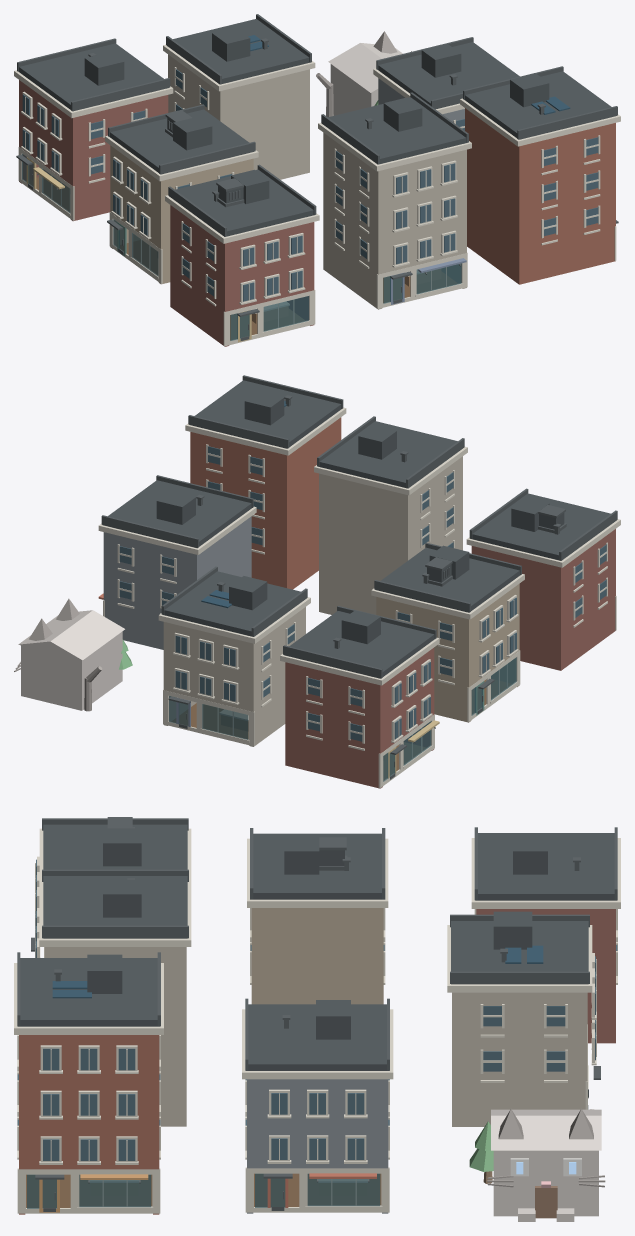
File: downtown-block-m1-m1.glb
3 views of the same model, one above another, from view 1: azimuth 30°, elevation 25°; view 2: azimuth 150°, elevation 25°; view 3: azimuth 270°, elevation 25° (orthographic). The views are drawn at different scales.
Visible parts, largest first — view 1: urban_townhouse_00.003, urban_townhouse_14.003, urban_townhouse_13.003, urban_townhouse_03.002, urban_townhouse_04.002, urban_townhouse_01.002, urban_townhouse_02.002, roofcap.001, body.008; view 2: urban_townhouse_03.002, urban_townhouse_14.003, urban_townhouse_00.003, urban_townhouse_04.002, urban_townhouse_13.003, urban_townhouse_02.002, urban_townhouse_01.002, body.008, roofcap.001; view 3: urban_townhouse_00.003, urban_townhouse_02.002, urban_townhouse_04.002, urban_townhouse_01.002, urban_townhouse_14.003, urban_townhouse_03.002, urban_townhouse_13.003, body.008, roofcap.001, mouthdoor.001.
Boxes of the visible parts, left/top/right/bottom form: urban_townhouse_00.003: left=460, top=66, right=620, bottom=284; urban_townhouse_14.003: left=318, top=92, right=471, bottom=309; urban_townhouse_13.003: left=165, top=164, right=319, bottom=346; urban_townhouse_03.002: left=14, top=38, right=173, bottom=221; urban_townhouse_04.002: left=163, top=14, right=315, bottom=179; urban_townhouse_01.002: left=105, top=104, right=258, bottom=284; urban_townhouse_02.002: left=373, top=37, right=519, bottom=130; roofcap.001: left=328, top=43, right=402, bottom=92; body.008: left=330, top=64, right=378, bottom=115; urban_townhouse_03.002: left=280, top=606, right=439, bottom=788; urban_townhouse_14.003: left=314, top=416, right=467, bottom=614; urban_townhouse_00.003: left=185, top=375, right=346, bottom=589; urban_townhouse_04.002: left=158, top=566, right=310, bottom=746; urban_townhouse_13.003: left=466, top=488, right=620, bottom=670; urban_townhouse_02.002: left=98, top=475, right=256, bottom=649; urban_townhouse_01.002: left=371, top=542, right=524, bottom=722; body.008: left=21, top=631, right=122, bottom=710; roofcap.001: left=18, top=610, right=124, bottom=660; urban_townhouse_00.003: left=14, top=952, right=163, bottom=1214; urban_townhouse_02.002: left=242, top=998, right=393, bottom=1213; urban_townhouse_04.002: left=447, top=911, right=600, bottom=1126; urban_townhouse_01.002: left=247, top=828, right=388, bottom=1004; urban_townhouse_14.003: left=35, top=869, right=191, bottom=1126; urban_townhouse_03.002: left=471, top=827, right=620, bottom=1043; urban_townhouse_13.003: left=31, top=817, right=191, bottom=957; body.008: left=493, top=1150, right=598, bottom=1216; roofcap.001: left=491, top=1109, right=601, bottom=1150; mouthdoor.001: left=535, top=1186, right=557, bottom=1218.
Bounding box in the file's own units: 33.49 × 13.81 × 34.52.
